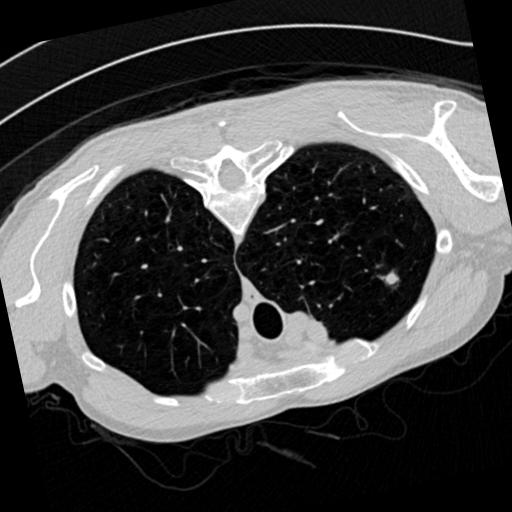nodule: (383, 269, 403, 289)
